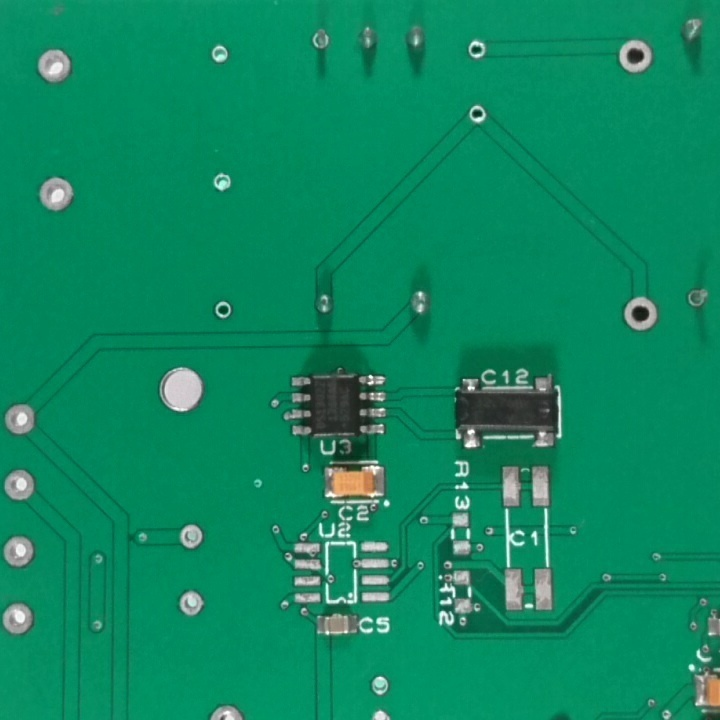F: (33, 175, 79, 214), (620, 293, 661, 335), (615, 34, 653, 79), (34, 45, 75, 86), (1, 400, 38, 440), (1, 598, 37, 638), (1, 466, 39, 503), (1, 532, 37, 570), (684, 281, 714, 315), (177, 587, 207, 619), (204, 700, 251, 720), (307, 26, 334, 53), (179, 523, 205, 549), (210, 170, 234, 195), (212, 298, 235, 324), (207, 43, 230, 68), (466, 40, 491, 63), (370, 674, 394, 696), (467, 103, 489, 127), (364, 710, 393, 720)
